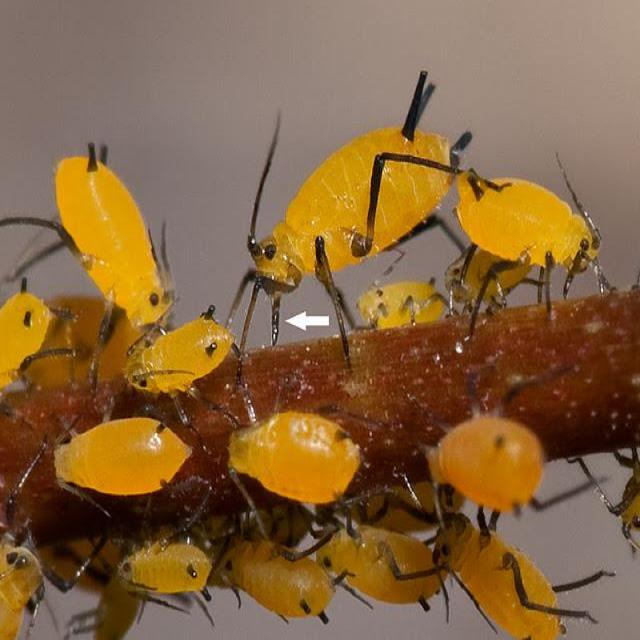Aphids: (219, 85, 470, 368), (19, 123, 191, 394), (457, 128, 621, 342), (217, 385, 406, 561), (21, 392, 208, 530), (421, 395, 605, 532), (121, 317, 245, 418)
